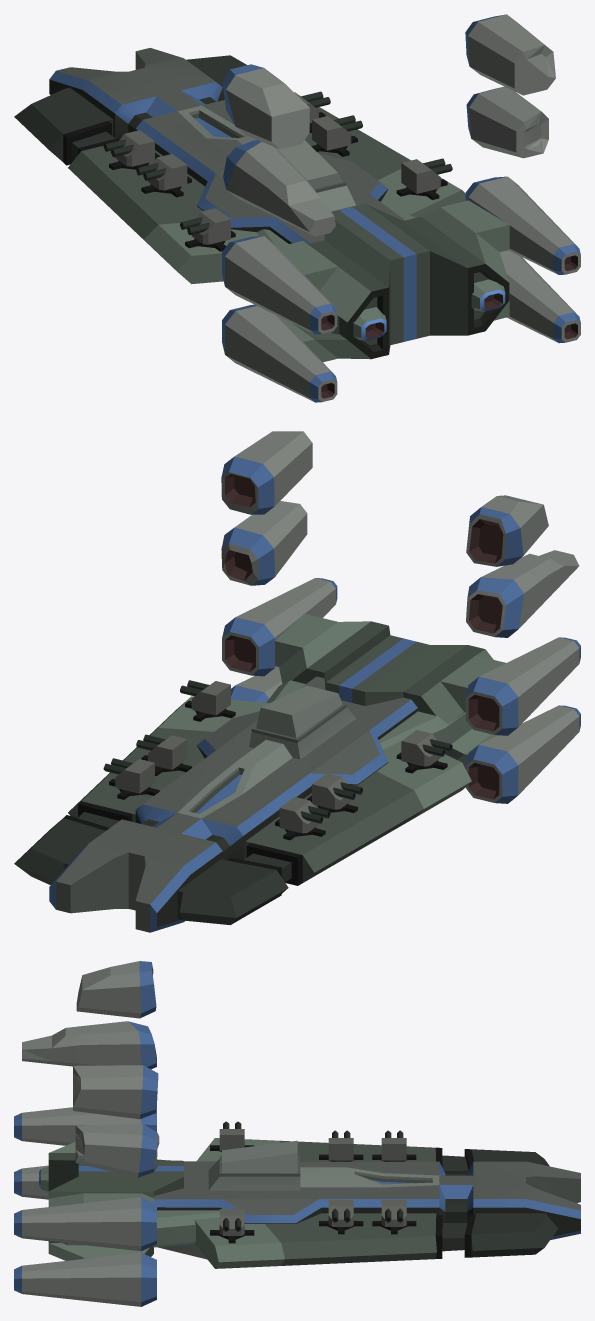
Rendered from Corvettev1.fbx.
3 renders of one model, top to bottom at view 1: azimuth 30°, elevation 25°; view 2: azimuth 150°, elevation 25°; view 3: azimuth 270°, elevation 25°, orthographic. The views are drawn at different scales.
Parts seen in each view (by area): view 1: Corvette Core Chassis, Corvette Broadside Chassis, Corvette Engine.TL, Corvette Engine.BL, Corvette Engine.BL_Broken, Corvette Engine.TR, Corvette Engine.TL_Broken, Corvette Engine.TR_Broken, Corvette Engine.BR_Broken, Corvette Engine.BR, Corvette AUX Engines, Turret Head 01 (+4 smaller); view 2: Corvette Core Chassis, Corvette Broadside Chassis, Corvette Engine.TL, Corvette Engine.BL, Corvette Engine.BL_Broken, Corvette Engine.TR_Broken, Corvette Engine.TR, Corvette Engine.BR_Broken, Corvette Engine.TL_Broken, Corvette AUX Engines, Corvette Engine.BR, Turret Head 01 (+5 smaller); view 3: Corvette Core Chassis, Corvette Broadside Chassis, Corvette Engine.TR, Corvette Engine.BR, Corvette Engine.BL_Broken, Corvette Engine.TR_Broken, Corvette Engine.BR_Broken, Corvette Engine.TL_Broken, Corvette Engine.TL, Corvette AUX Engines, Corvette Engine.BL, Turret Head 05 (+5 smaller).
Part boxes in pixels (box(x1,y1,x2,y2)): Corvette Core Chassis: box(49, 48, 510, 362); Corvette Broadside Chassis: box(14, 55, 465, 284); Corvette Engine.TL: box(222, 236, 337, 334); Corvette Engine.BL: box(222, 304, 337, 402); Corvette Engine.BL_Broken: box(223, 140, 335, 236); Corvette Engine.TR: box(465, 176, 580, 274); Corvette Engine.TL_Broken: box(223, 64, 309, 149); Corvette Engine.TR_Broken: box(465, 14, 555, 95); Corvette Engine.BR_Broken: box(466, 86, 548, 158); Corvette Engine.BR: box(500, 250, 580, 343); Corvette AUX Engines: box(256, 201, 505, 340); Turret Head 01: box(401, 159, 440, 193); Corvette Core Chassis: box(49, 613, 505, 932); Corvette Broadside Chassis: box(14, 696, 471, 925); Corvette Engine.TL: box(465, 637, 580, 735); Corvette Engine.BL: box(465, 705, 580, 803); Corvette Engine.BL_Broken: box(466, 550, 579, 637); Corvette Engine.TR_Broken: box(221, 431, 312, 514); Corvette Engine.TR: box(222, 578, 337, 676); Corvette Engine.BR_Broken: box(221, 501, 307, 585); Corvette Engine.TL_Broken: box(466, 495, 548, 566); Corvette AUX Engines: box(266, 680, 472, 749); Corvette Engine.BR: box(231, 666, 282, 702); Turret Head 01: box(191, 681, 230, 715); Corvette Core Chassis: box(48, 1124, 580, 1260); Corvette Broadside Chassis: box(194, 1138, 558, 1268); Corvette Engine.TR: box(14, 1197, 156, 1251); Corvette Engine.BR: box(14, 1252, 156, 1306); Corvette Engine.BL_Broken: box(22, 1021, 156, 1069); Corvette Engine.TR_Broken: box(73, 1065, 158, 1119); Corvette Engine.BR_Broken: box(75, 1124, 159, 1177); Corvette Engine.TL_Broken: box(76, 961, 156, 1018); Corvette Engine.TL: box(14, 1107, 156, 1145); Corvette AUX Engines: box(39, 1159, 219, 1247); Corvette Engine.BL: box(14, 1165, 48, 1199); Turret Head 05: box(328, 1138, 353, 1160).
Bounding box in the file's own units: 186 × 379 × 179.
